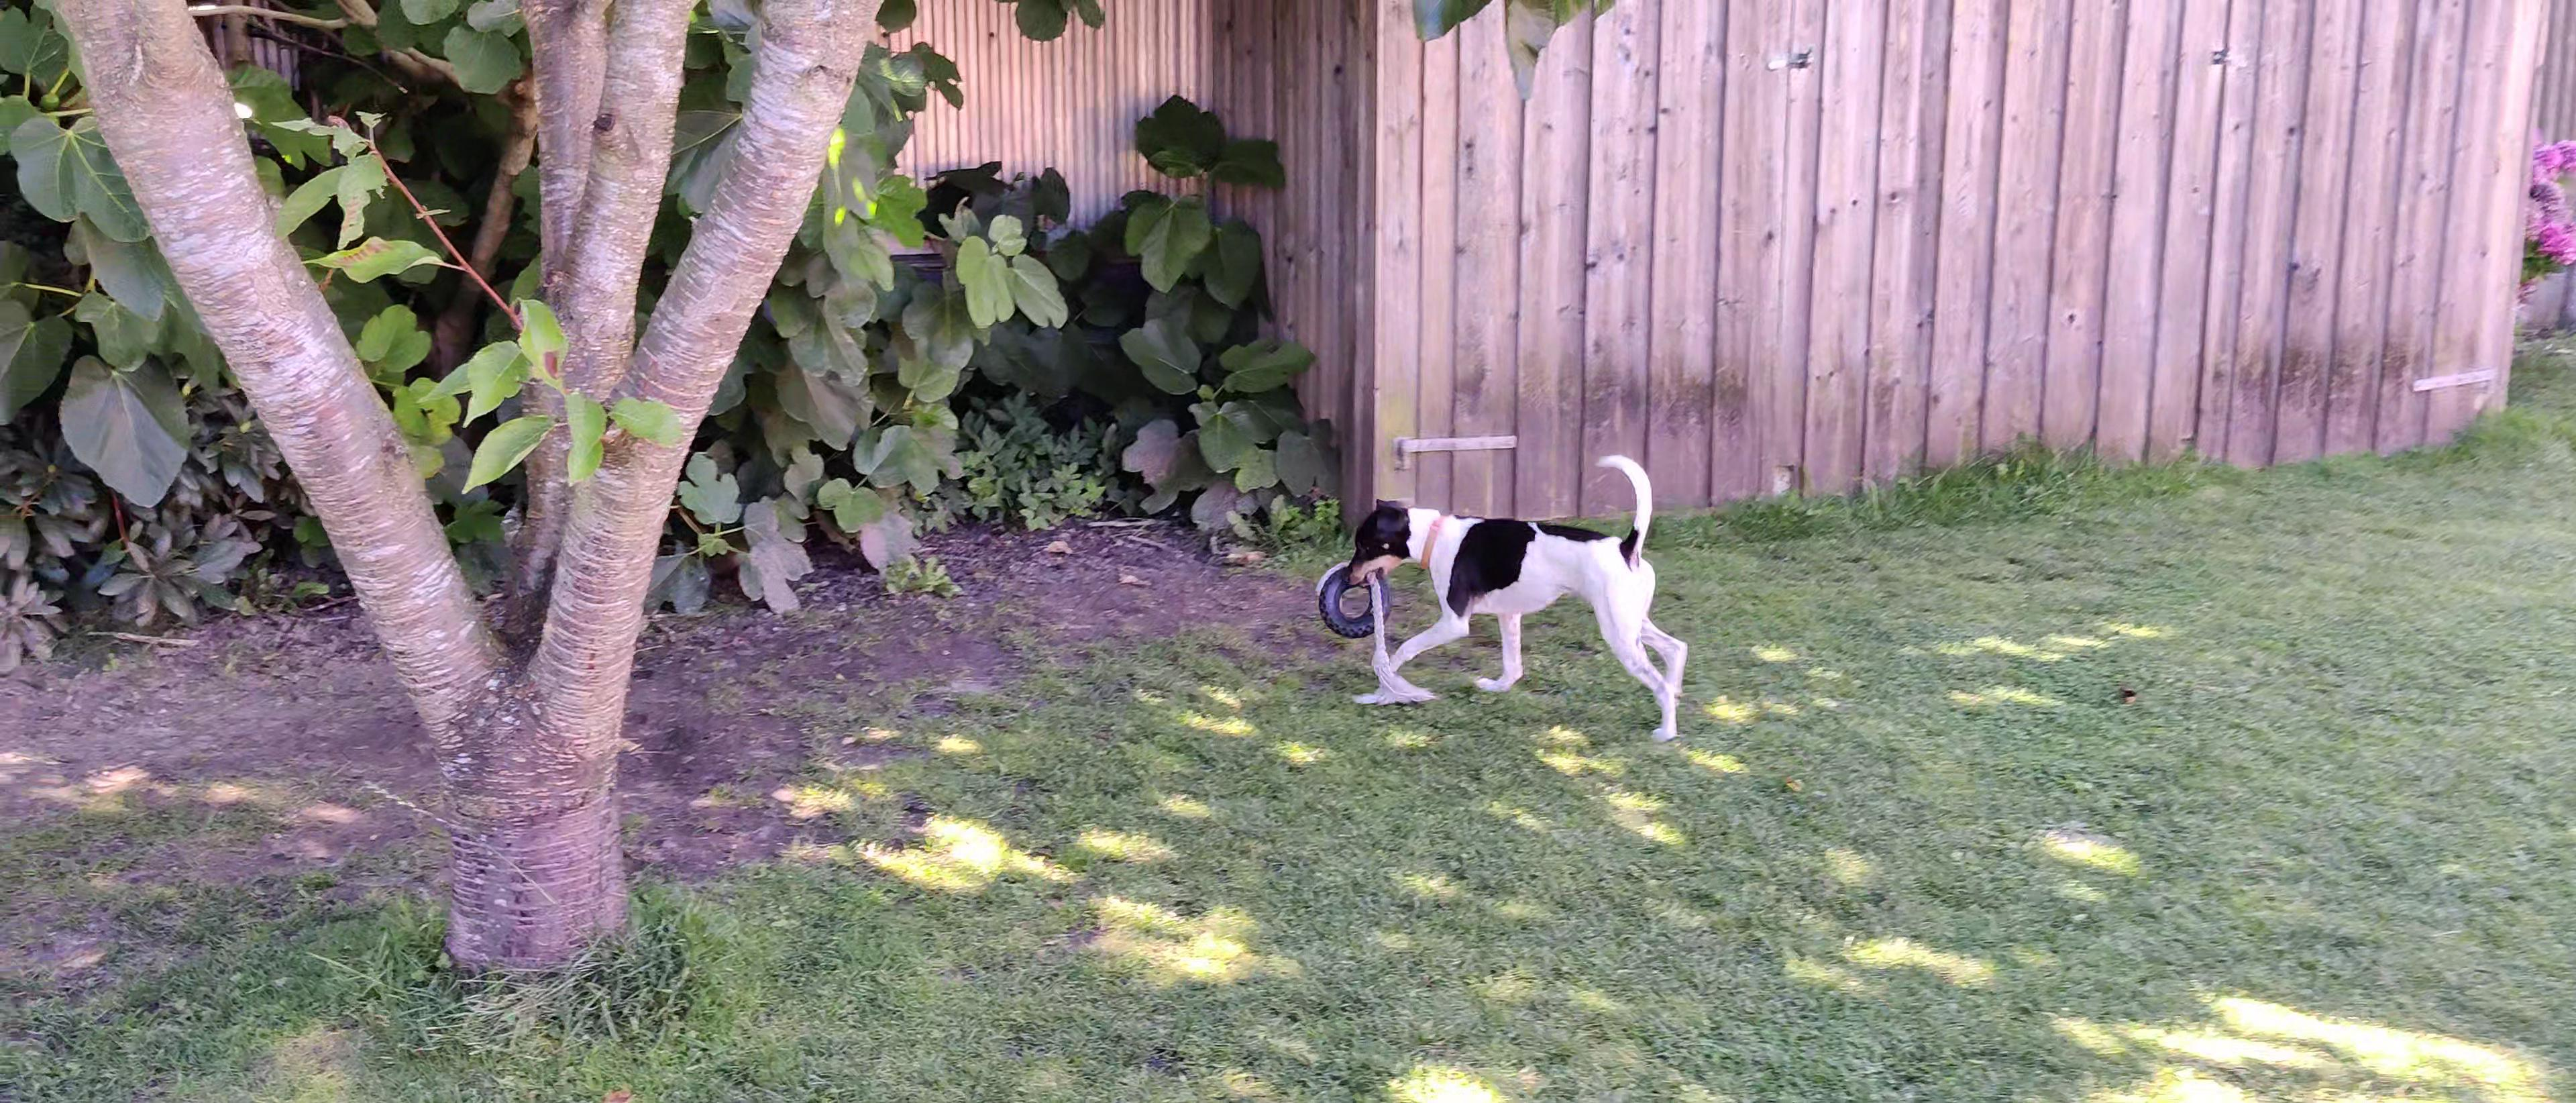Dog: (1339, 450, 1690, 745)
